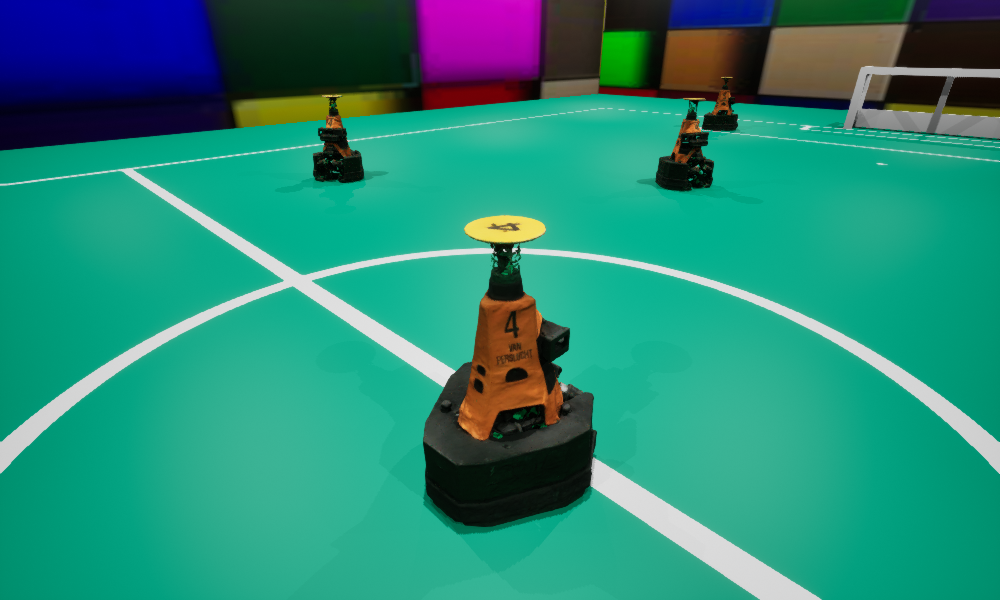0 orange robot TechUnited: (423, 215, 596, 526), (655, 98, 713, 190), (313, 95, 363, 181), (702, 77, 737, 130)
